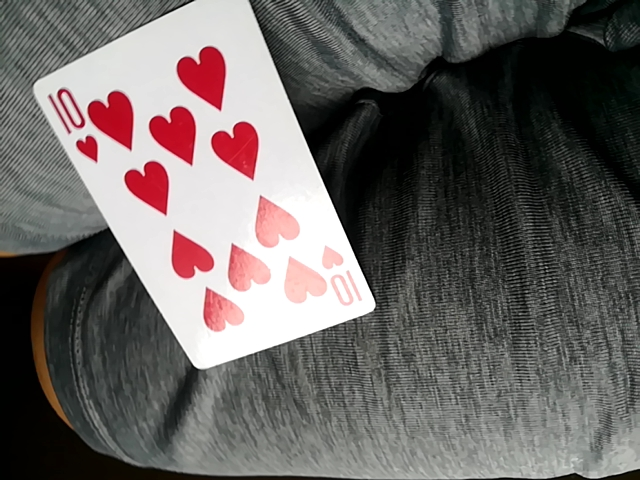hx 10: (39, 2, 372, 375)
